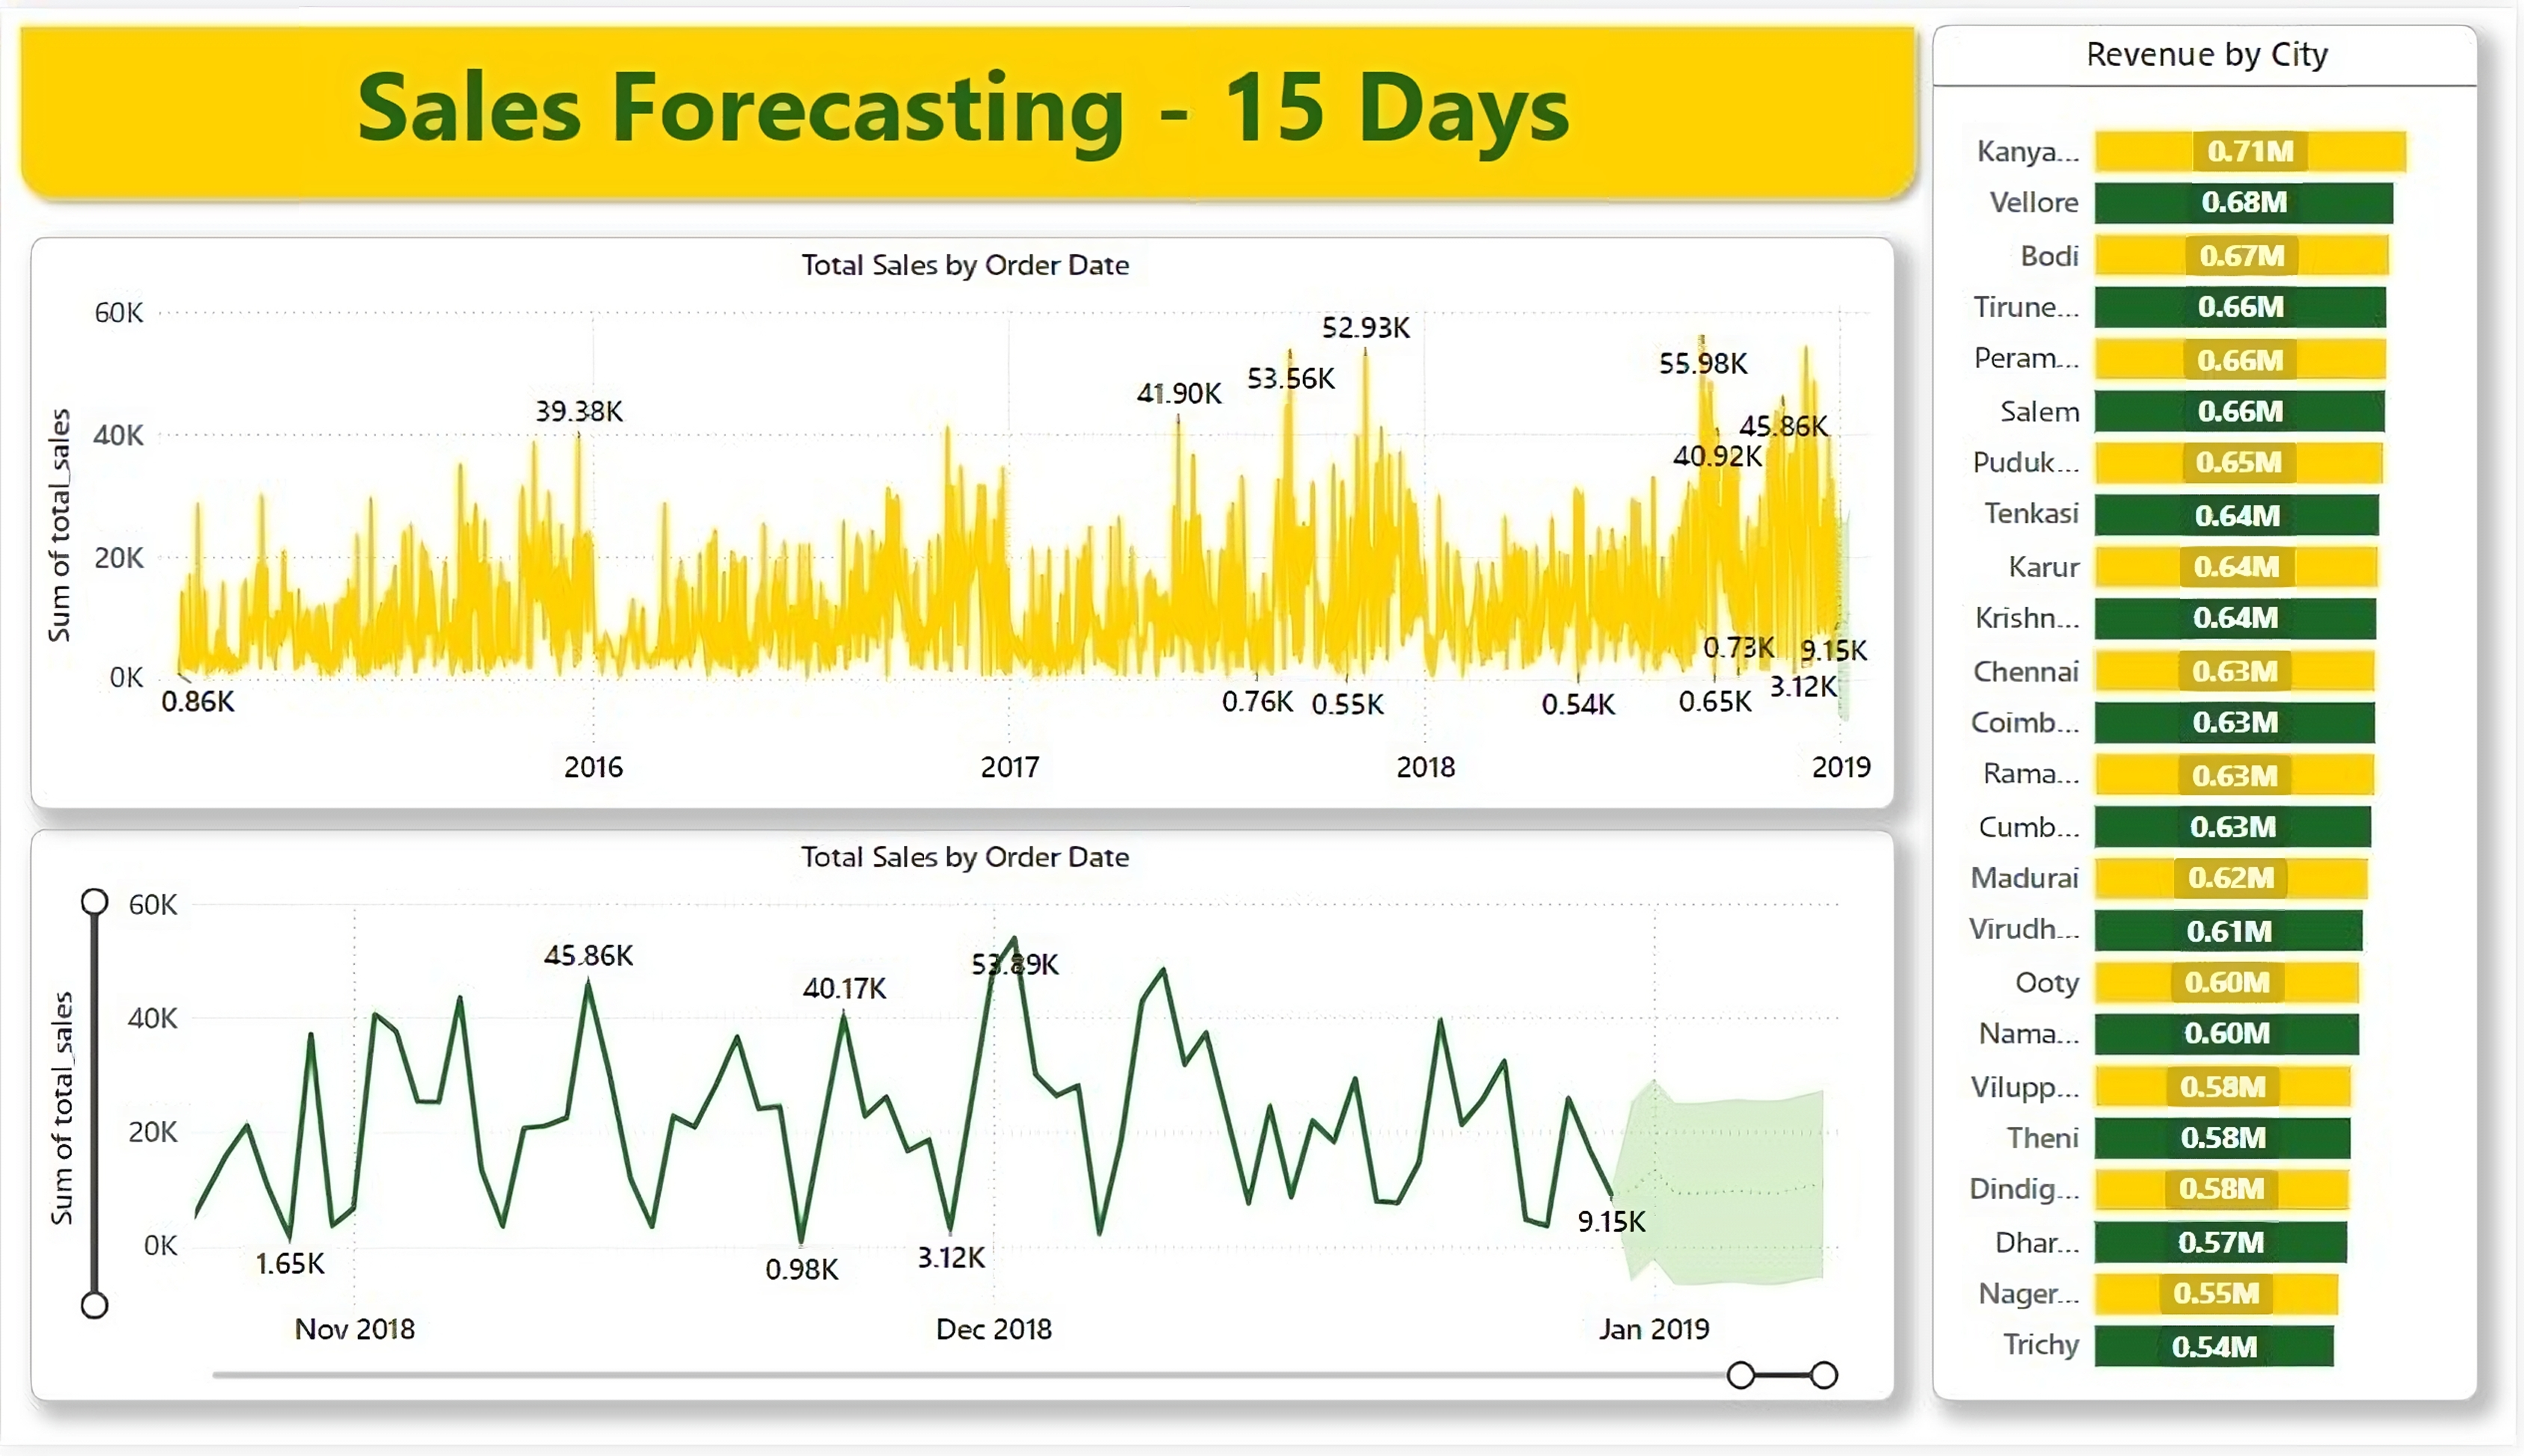

The dashboard page shown, as its layout file describes it:
{"tool":"powerbi","page":{"name":"Forcasting","canvas":[1400,800],"ordinal":3},"visuals":[{"type":"barChart","title":"Revenue by City","fields":{"Category":["city_dim.city"],"Y":["Calculated Measures.Total Revenue"]},"box":[1075,8.3,305,768.3],"z":0},{"type":"lineChart","title":"Total Sales by Order Date","fields":{"Category":["Date_dim.order_date"],"Y":["Sum(fact_table.total_sales)"]},"box":[15,126.7,1040,320],"z":1000},{"type":"lineChart","title":"Total Sales by Order Date","fields":{"Category":["Date_dim.order_date"],"Y":["Sum(fact_table.total_sales)"]},"box":[15,456.7,1040,320],"z":2000},{"type":"shape","box":[0,0,1075,115],"z":3000},{"type":"textbox","box":[15,10,1040,96.7],"z":4000}]}

Visuals, with their boxes in screenshot pixels (x1, y1, x2, y2), scaled from the page's 1400x800 canvas onto the 2524x1456 screenshot:
"Revenue by City" barChart: l=1938, t=15, r=2488, b=1413
"Total Sales by Order Date" lineChart: l=27, t=231, r=1902, b=813
"Total Sales by Order Date" lineChart: l=27, t=831, r=1902, b=1413
shape: l=0, t=0, r=1938, b=209
textbox: l=27, t=18, r=1902, b=194
